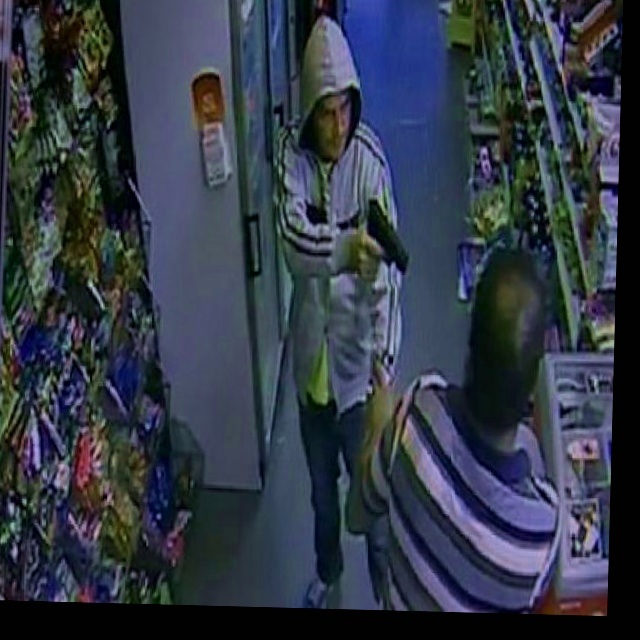gun: (355, 191, 415, 308)
